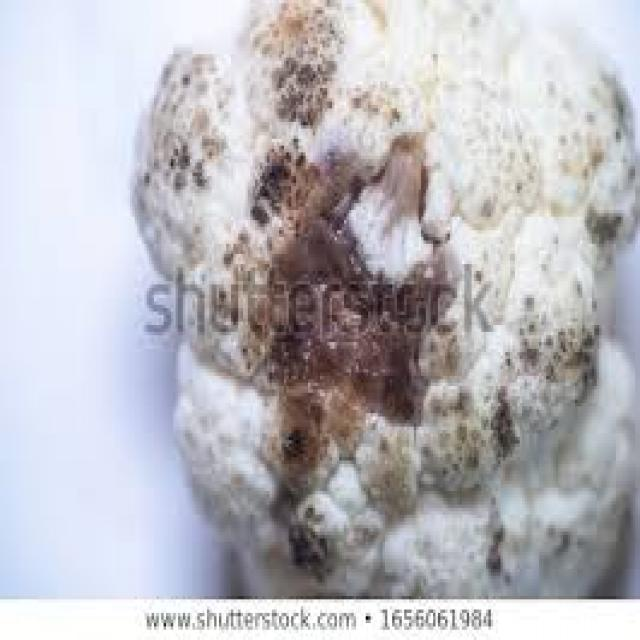organic waste: (132, 0, 638, 593)
